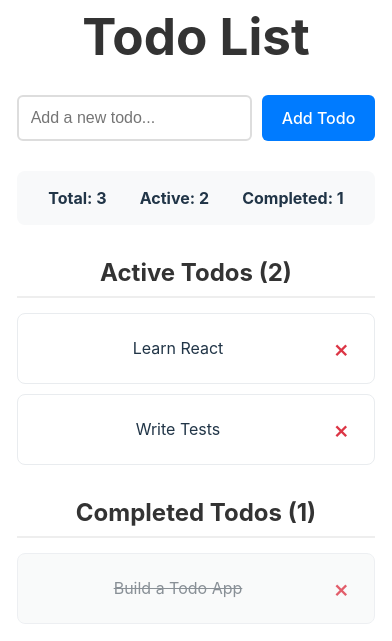
it: TodoList Component › deletes a todo
Click the button named "Delete" at (341, 348), box [323,329,359,368]
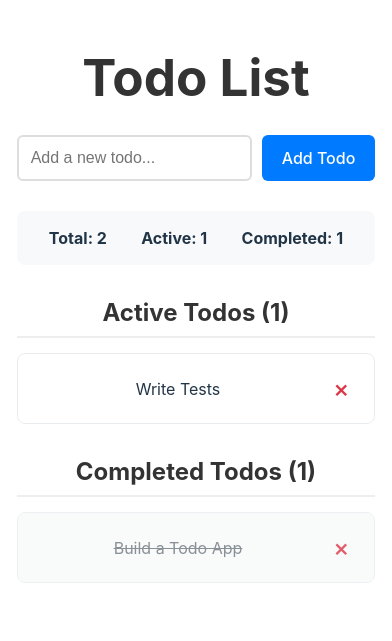
Expected: the number of list items is 2, [17,353,375,424]; [17,512,375,583]
Expected: the text "Learn React" is gone
Expected: the text "Total: 2" is shown, [49,226,107,250]
